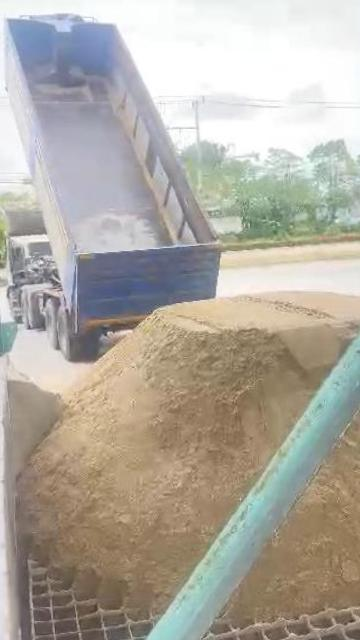sand: (23, 294, 360, 611), (232, 365, 360, 620), (9, 365, 62, 478)
